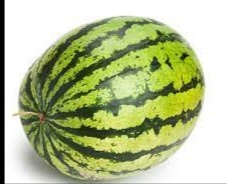watermelon: (16, 14, 205, 180)
